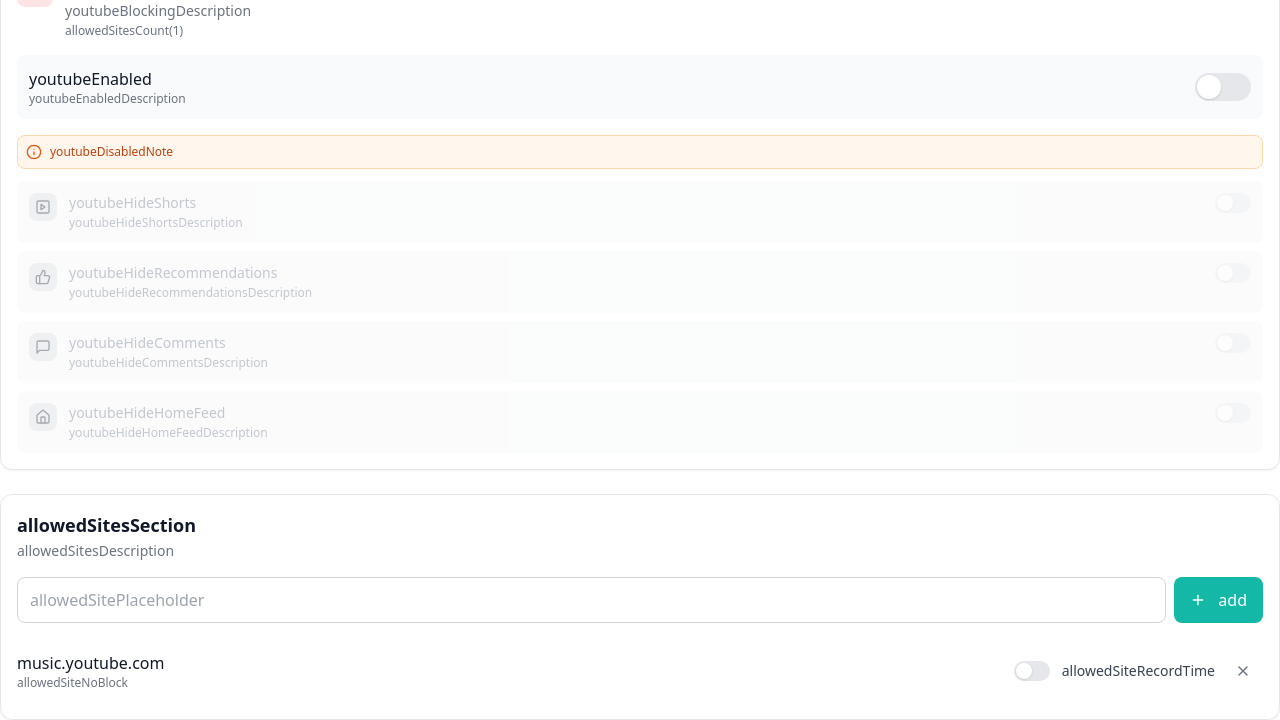
BlocklistTab › 許可サイト › 削除と切り替えに失敗したら理由を欄の下に出す
(page scrolled)
Step 1. Click the button with test id "allowed-site-item-remove" → (1243, 671), box [1223,657,1263,685]
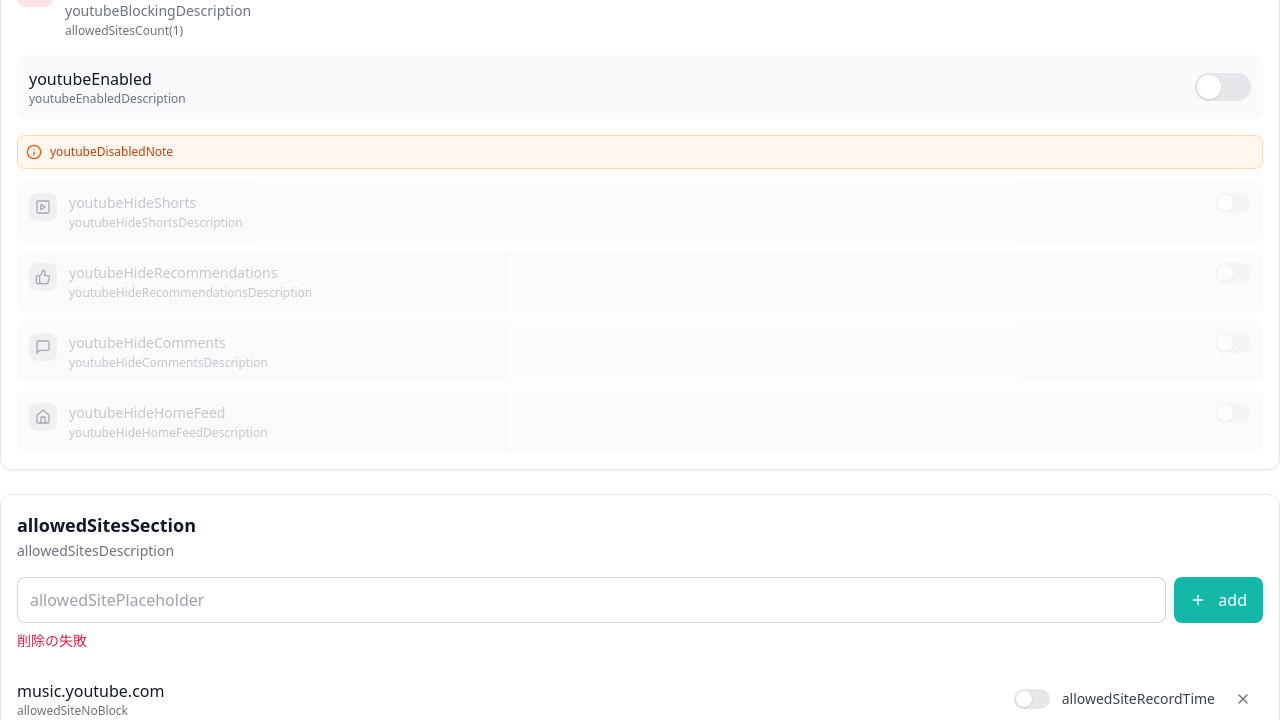
Expected: the text with test id "allowed-site-error" reads "削除の失敗", [17,631,87,650]
Step 2. Click the switch with test id "allowed-site-item-record-toggle" → (1032, 699), box [1014,689,1050,709]
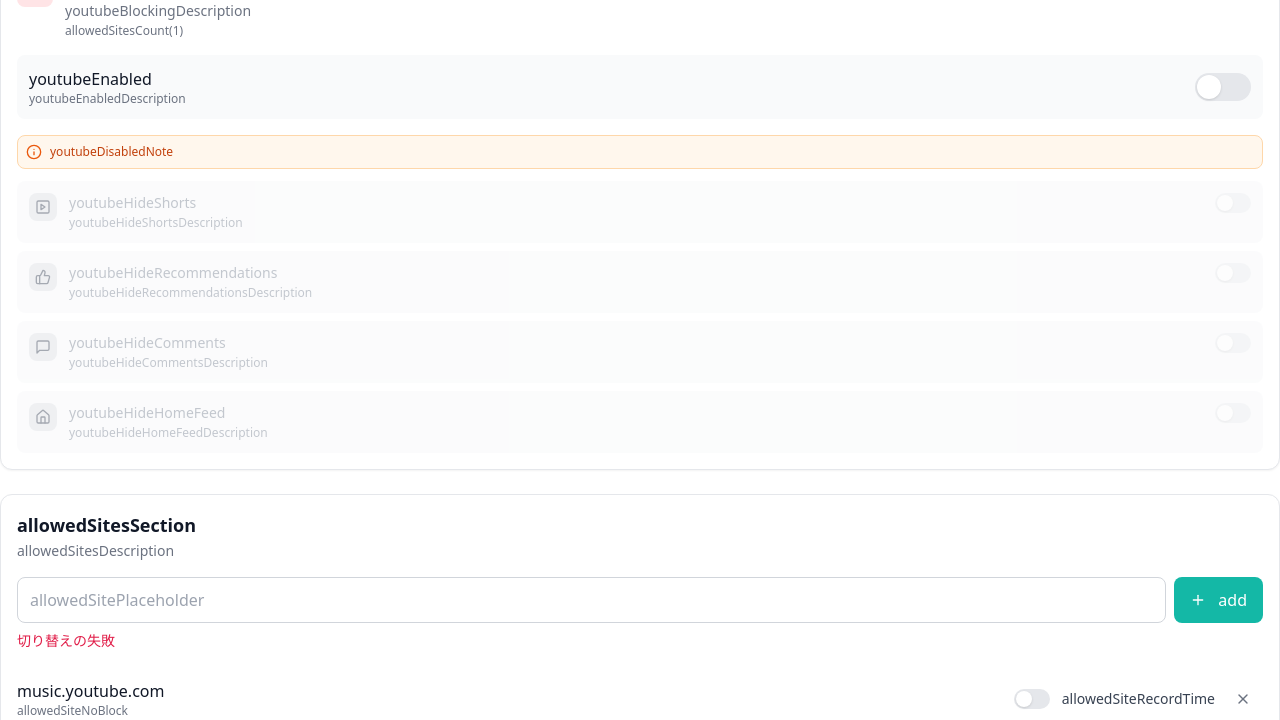
Expected: the text with test id "allowed-site-error" reads "切り替えの失敗", [17,631,115,650]
